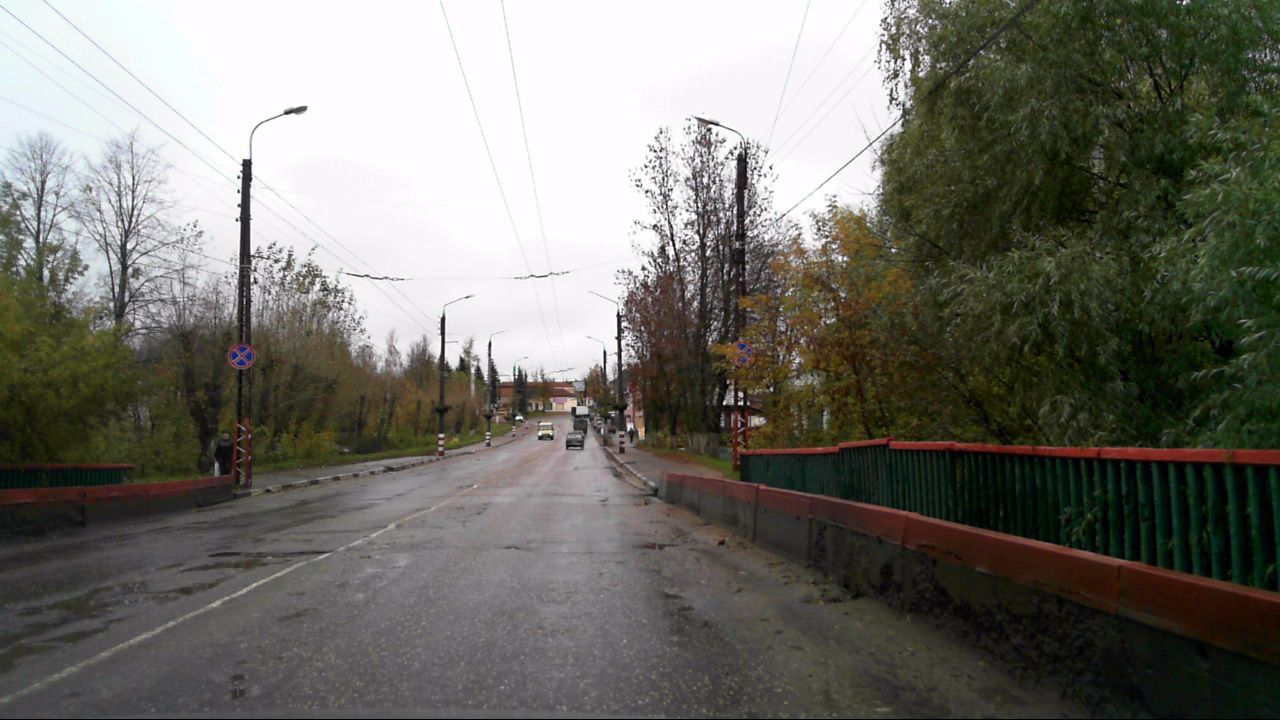No Parking: (729, 341, 753, 367)
